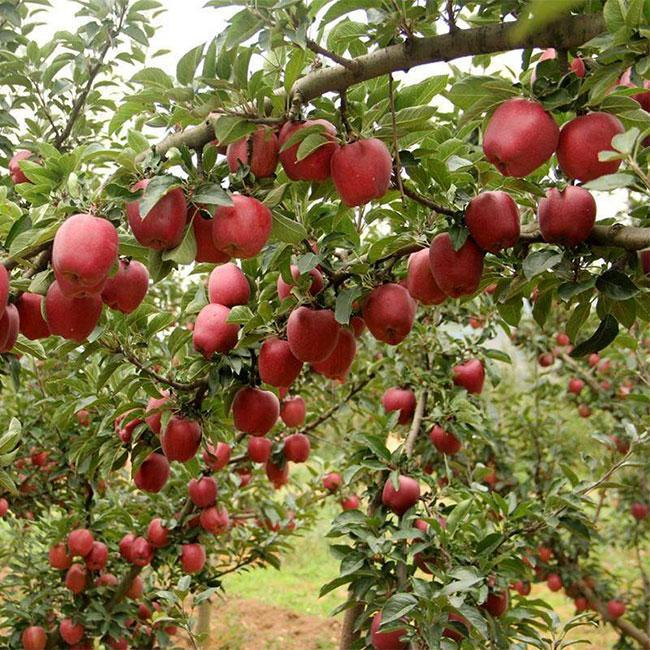apple: (480, 97, 557, 180), (52, 209, 119, 286), (557, 109, 629, 179), (328, 138, 399, 206), (126, 179, 186, 250), (463, 189, 522, 255), (214, 193, 272, 259), (428, 232, 484, 299), (539, 184, 599, 244), (283, 305, 340, 365), (43, 286, 103, 342), (362, 285, 414, 346), (190, 302, 241, 357), (230, 384, 281, 439), (104, 259, 150, 315), (158, 412, 203, 464), (258, 335, 302, 388)
